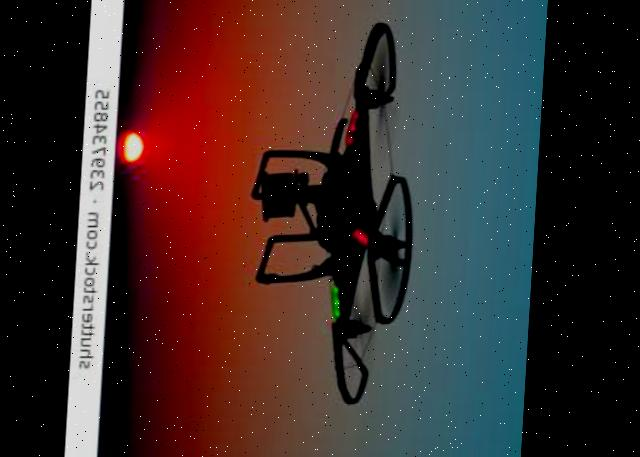drone: (232, 7, 444, 418)
